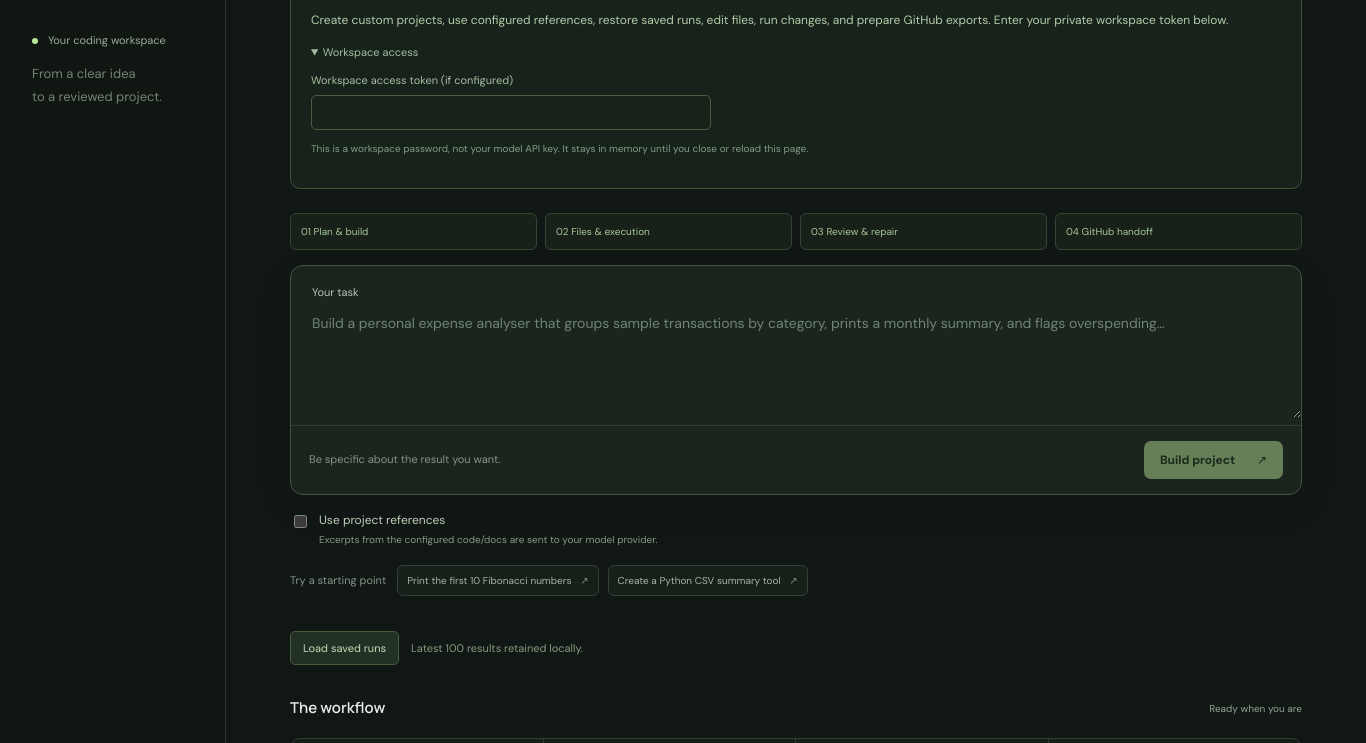
Scenario: workspace › renders results, switches files and inspects failed attempts
(page scrolled)
Type "Print hello" into the text box labelled "Your task".
click(796, 360); type("Print hello")  # box [291,302,1301,418]
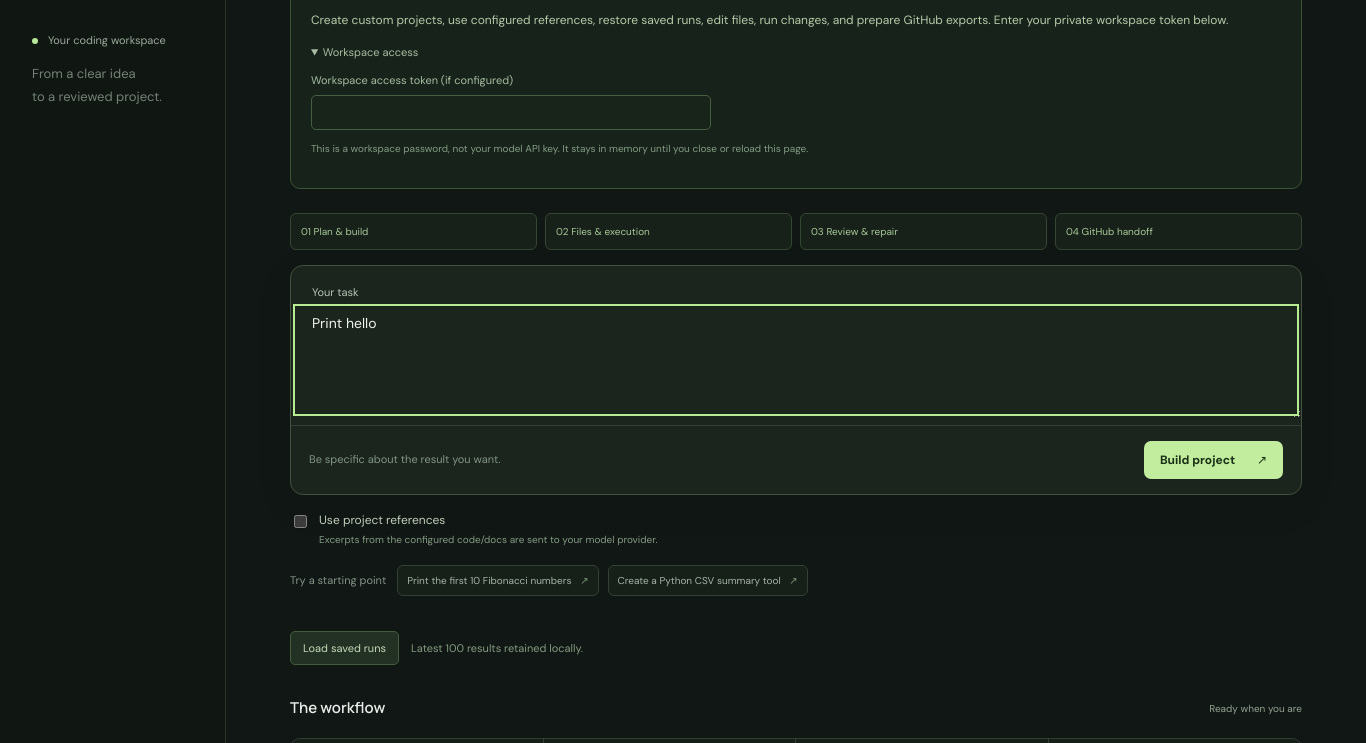
Click the button "Build project ↗".
click(1214, 460)  # box [1144,440,1283,478]
(page scrolled)
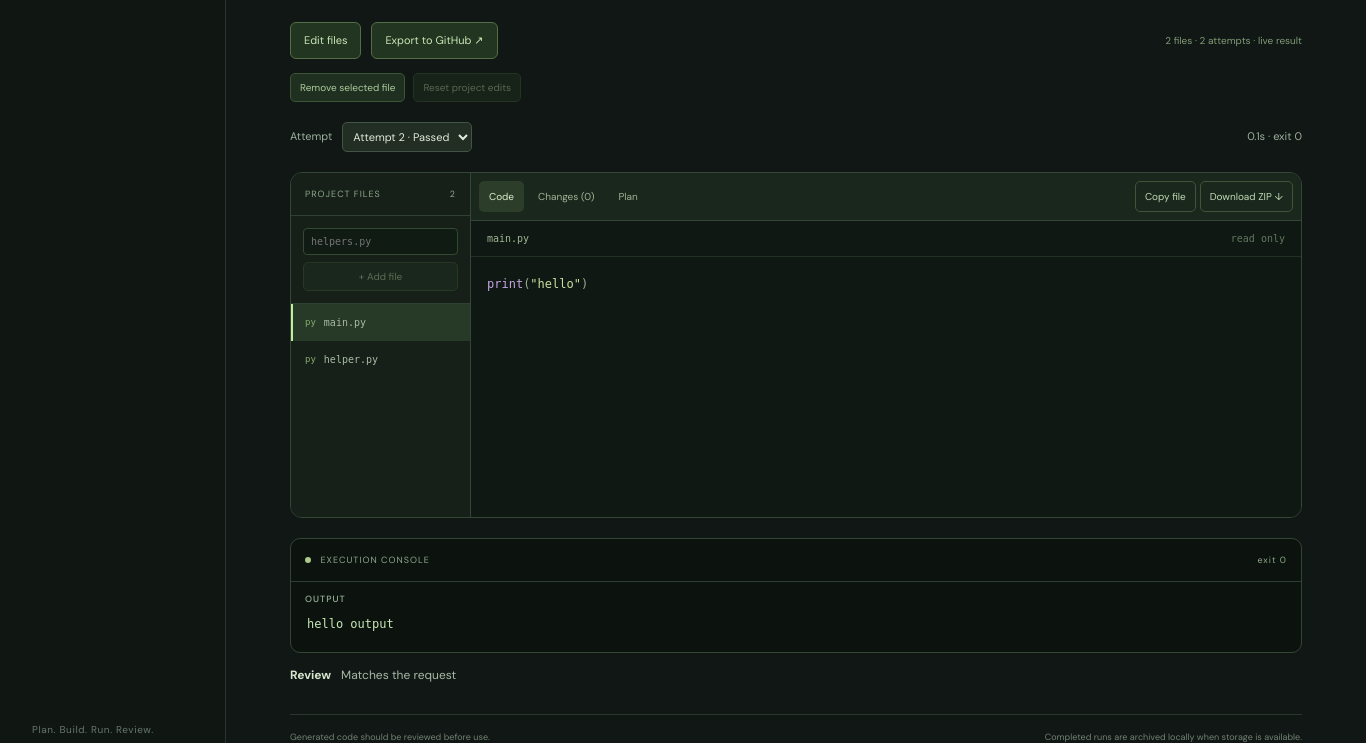
Expected: the text "hello output" is shown, [307,617,394,631]
Expected: the element named "File contents" reads "print(\"hello\")", [471,256,1301,516]
Click the button "py helper.py".
click(380, 359)  # box [291,340,470,378]
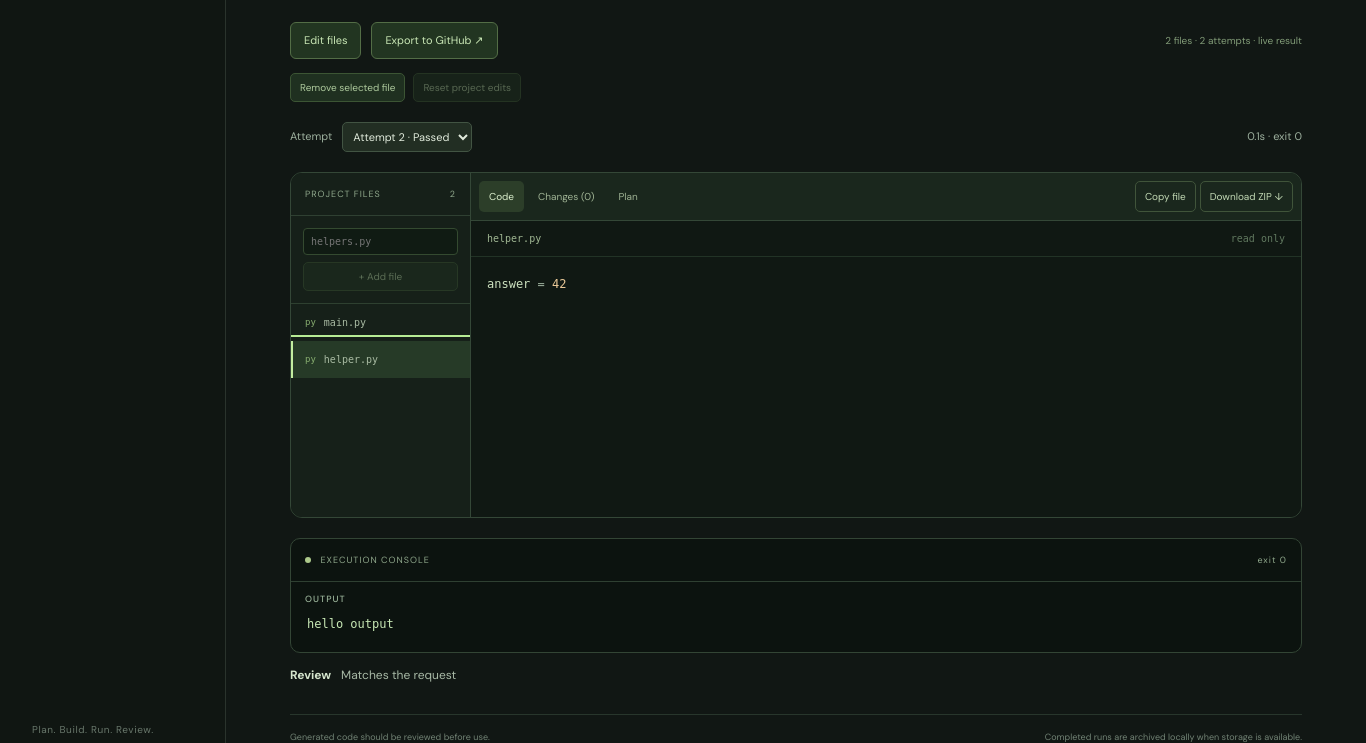
Expected: the element named "File contents" reads "answer = 42", [471,256,1301,516]
Select "Attempt 1 · Failed" in the dropdown labelled "Attempt" at x=407, y=136, box [342,122,472,152]
(page scrolled)
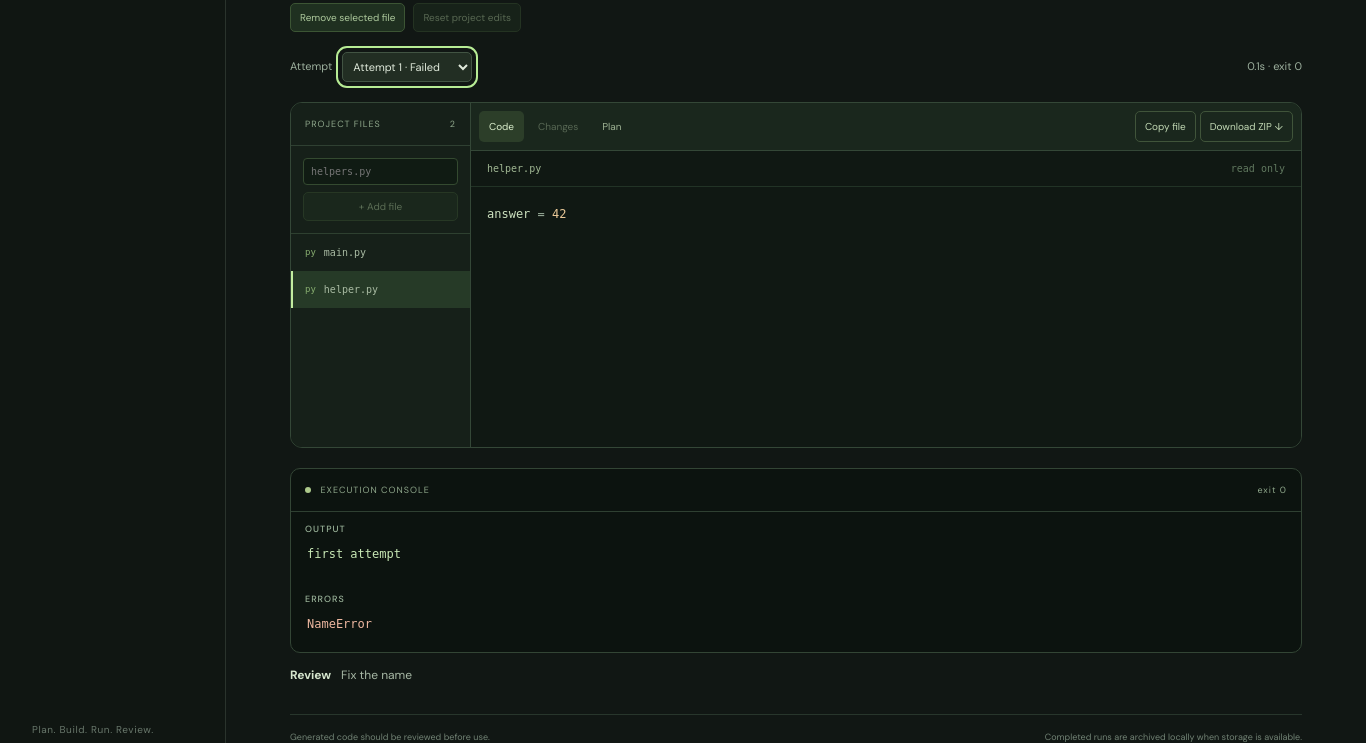
Expected: the text "first attempt" is shown, [307,547,401,561]
Expected: the text "NameError" is shown, [307,617,372,631]
Expected: the text "Fix the name" is shown, [341,667,412,683]
